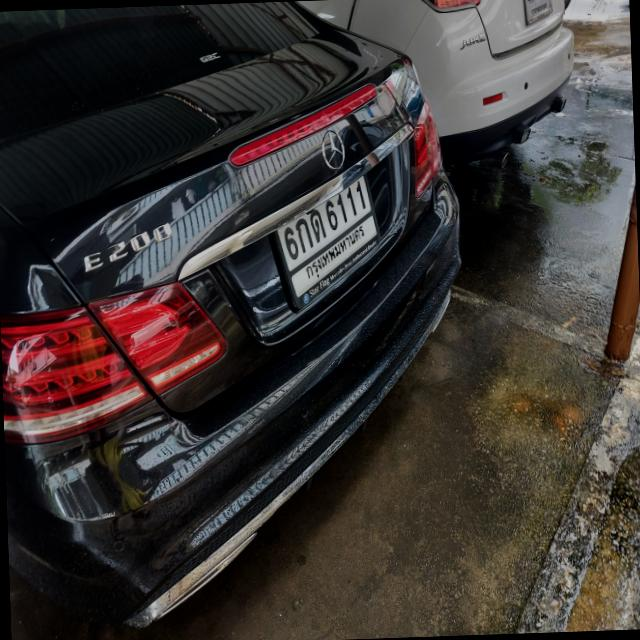license_plate: (266, 166, 384, 315)
